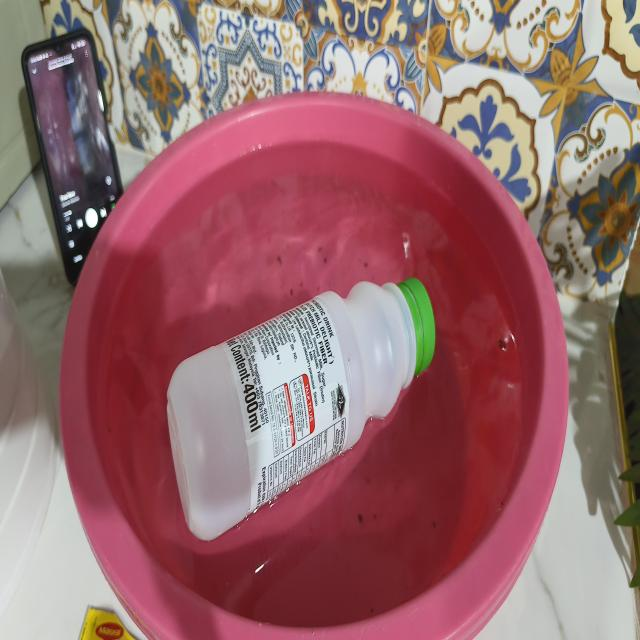Plastic Bottle: (167, 278, 435, 540)
